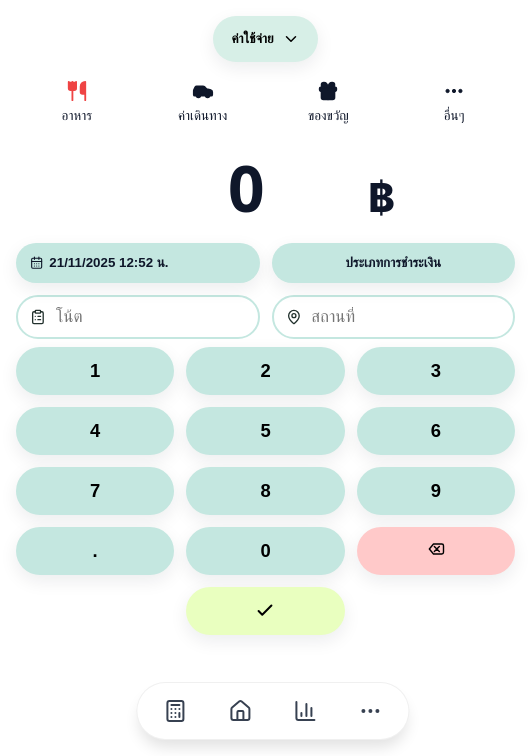
Scenario: Expense Component › Amount Input › should handle decimal point correctly
The image size is (532, 756).
Click the button "1": (95,371) x1=16 y1=347 x2=174 y2=395
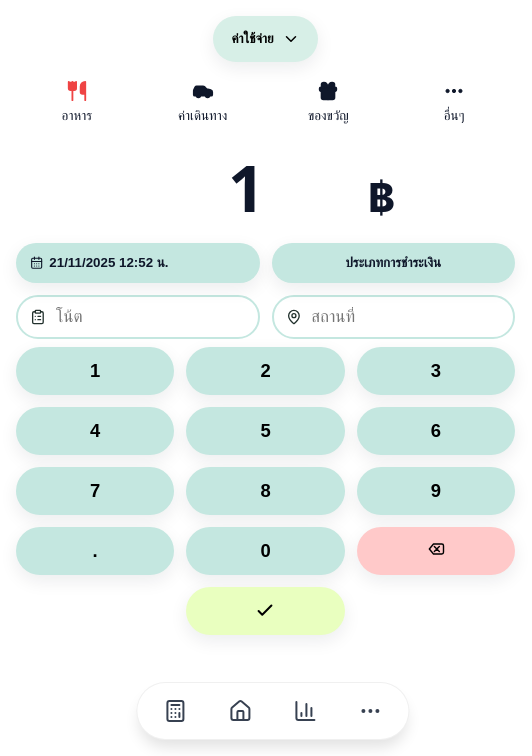
Click the button "0": (265,551) x1=186 y1=527 x2=345 y2=575
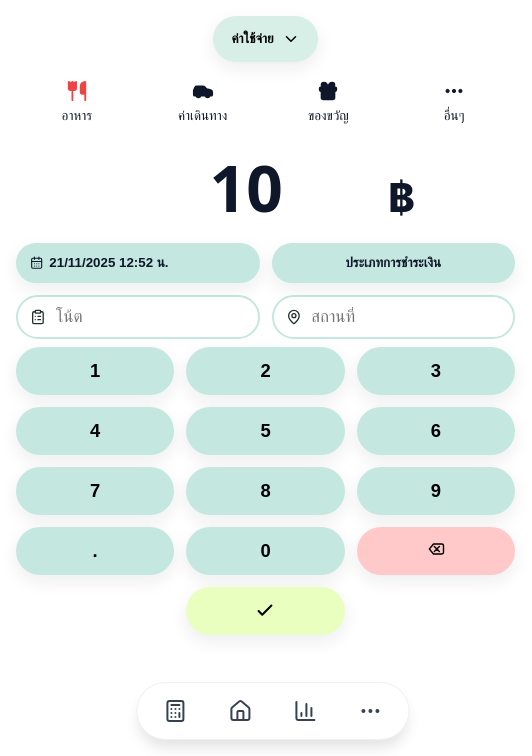
Click the button ".": (95,551) x1=16 y1=527 x2=174 y2=575
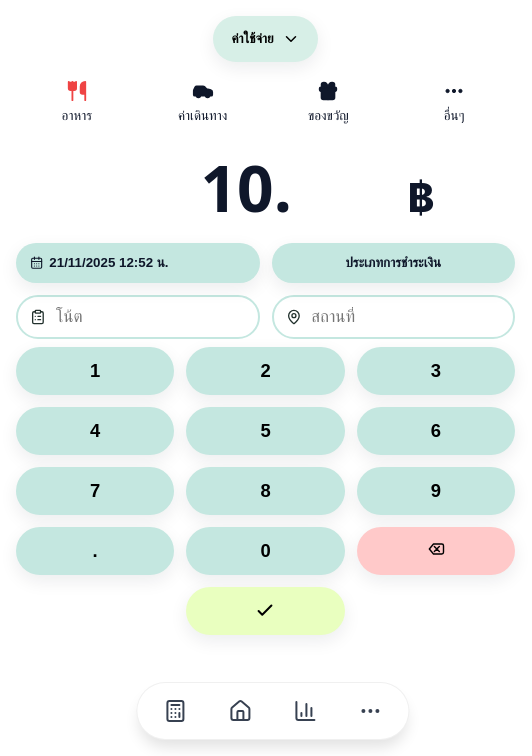
Click the button "5": (265,431) x1=186 y1=407 x2=345 y2=455
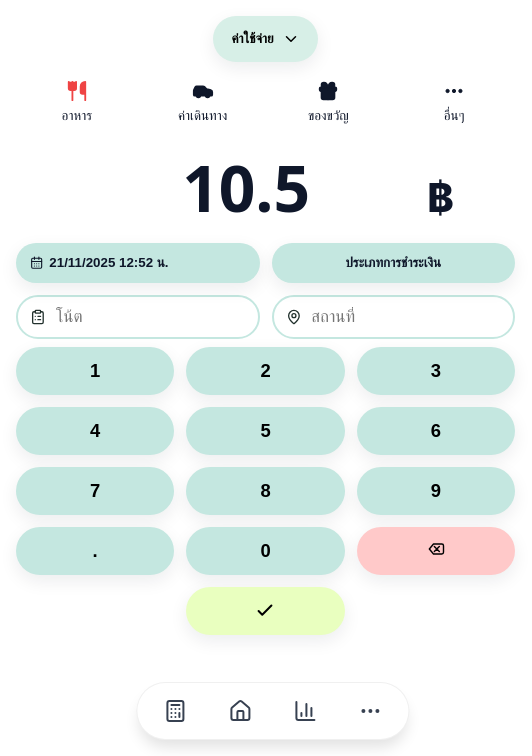
expect the field named "จำนวนเงิน" holds "10.5": met, box x1=77 y1=144 x2=415 y2=231
